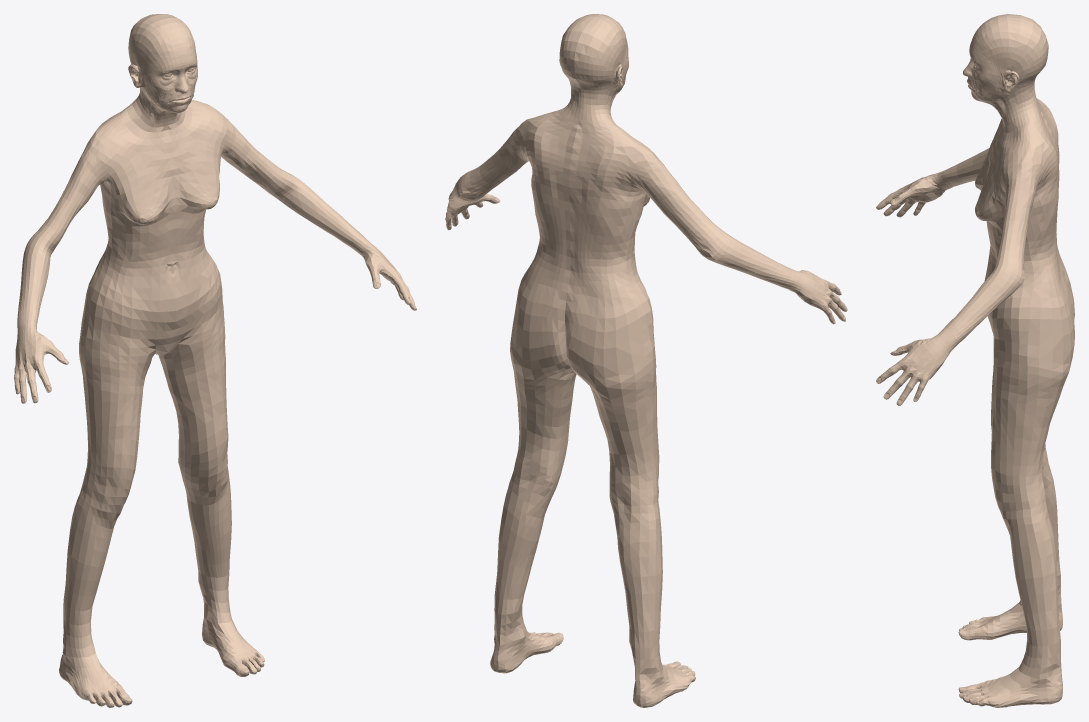
File: female-elder-fit-low.glb
The picture shows the model from 3 angles, left to right: view 1: azimuth 30°, elevation 25°; view 2: azimuth 150°, elevation 25°; view 3: azimuth 270°, elevation 25°; orthographic projection.
Visible parts, largest first — view 1: world; view 2: world; view 3: world.
Part boxes in pixels (box(x1,y1,x2,y2)): world: box(14, 14, 416, 707); world: box(445, 14, 847, 707); world: box(876, 14, 1074, 707).
Bounding box in the file's own units: 1.13 × 1.8 × 0.4988.
